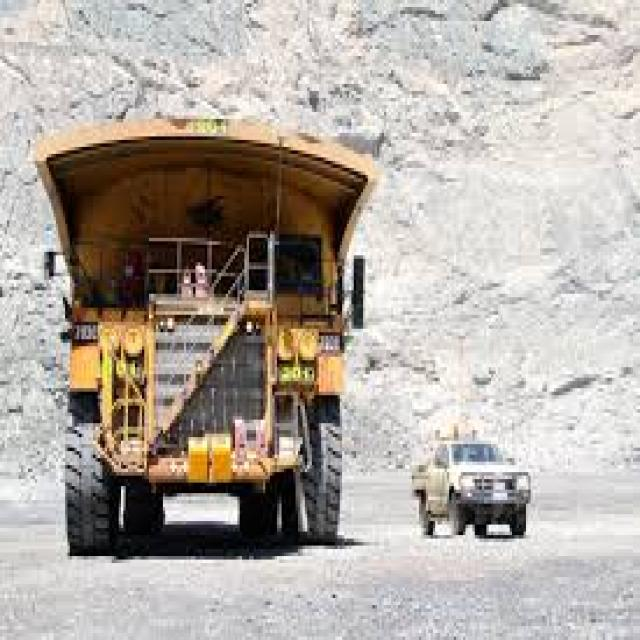dump_truck: (16, 94, 358, 546)
light_vehicle: (403, 416, 528, 553)
